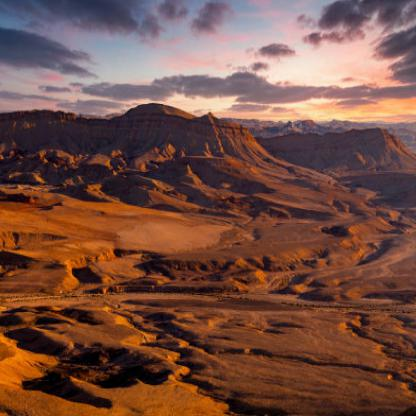Sedimentary_Sandstone: (132, 100, 263, 162), (16, 303, 148, 361), (2, 112, 129, 162)
